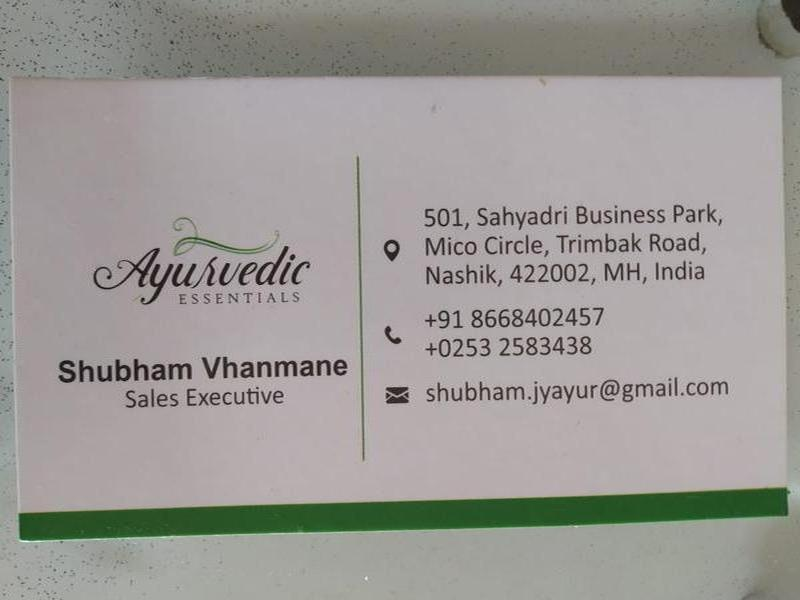card: (5, 73, 792, 521)
